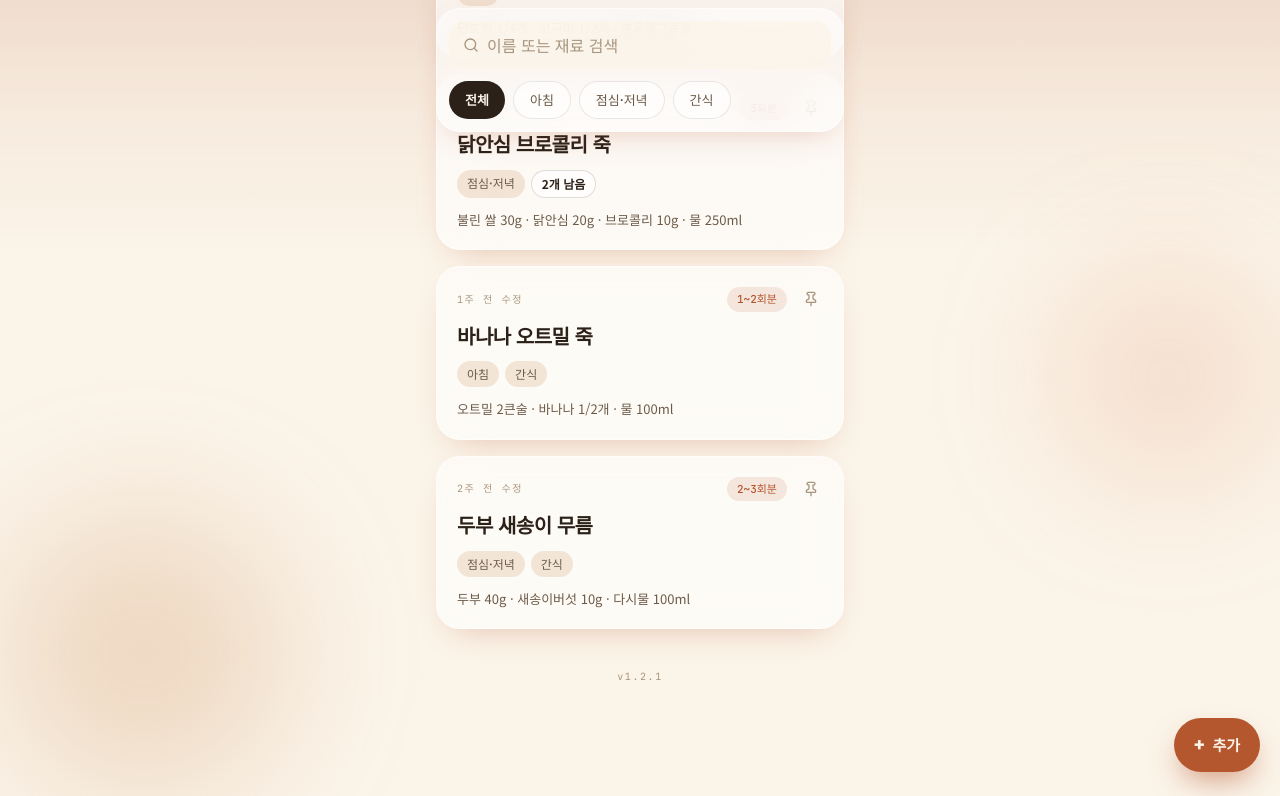
Test: RecipeListScreen › pins a recipe to the top from its card without opening it
(page scrolled)
Check: the button that starts with "2주 전 수정" shows "두부 새송이 무름", box [436,456,844,629]
Check: the text "고정" is not shown
Step 1. Click the 2nd button named "고정" → {"x": 811, "y": 489}, box [795,473,827,505]
(page scrolled)
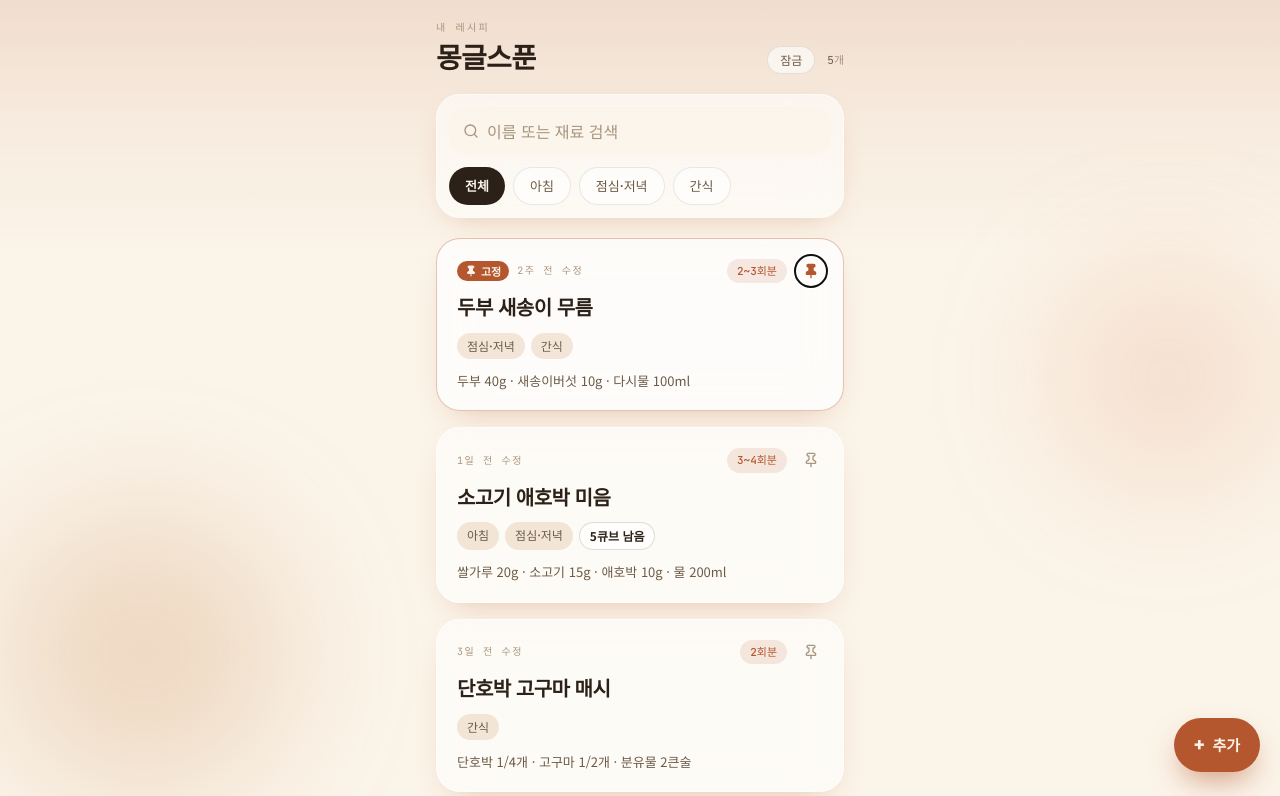
Check: the heading "두부 새송이 무름" is shown, box [457,292,592,321]
Check: the text "고정" is shown, box [457,260,509,281]
